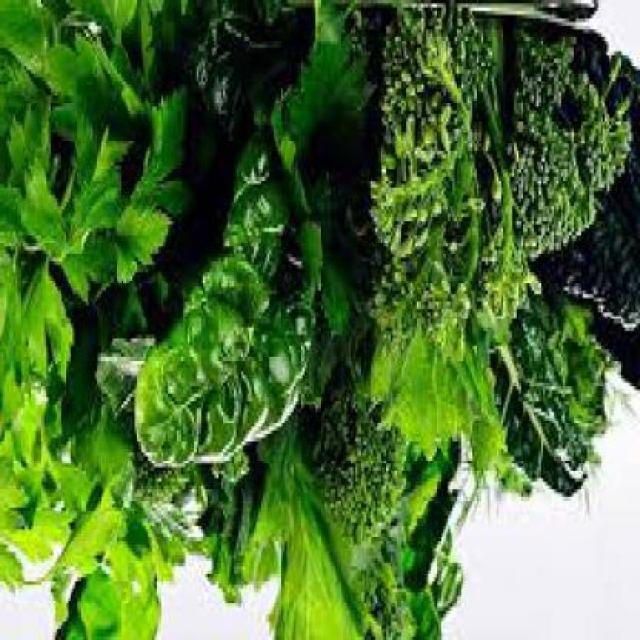BIODEGRADABLE: (1, 4, 192, 596), (134, 3, 374, 471), (209, 408, 446, 640), (371, 4, 503, 364), (494, 19, 638, 328), (530, 22, 638, 396), (485, 284, 633, 514), (2, 478, 180, 638), (372, 331, 532, 504), (315, 349, 417, 548), (380, 446, 466, 636), (135, 463, 210, 566)
